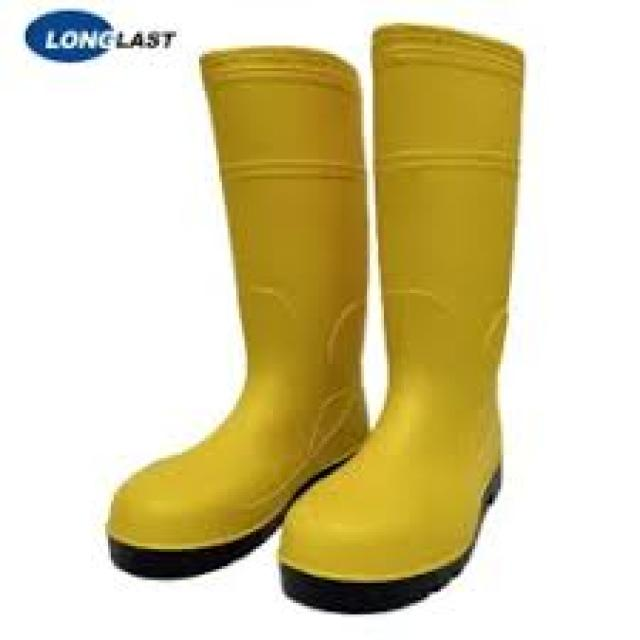shoes: (281, 25, 522, 611), (108, 48, 366, 576)
